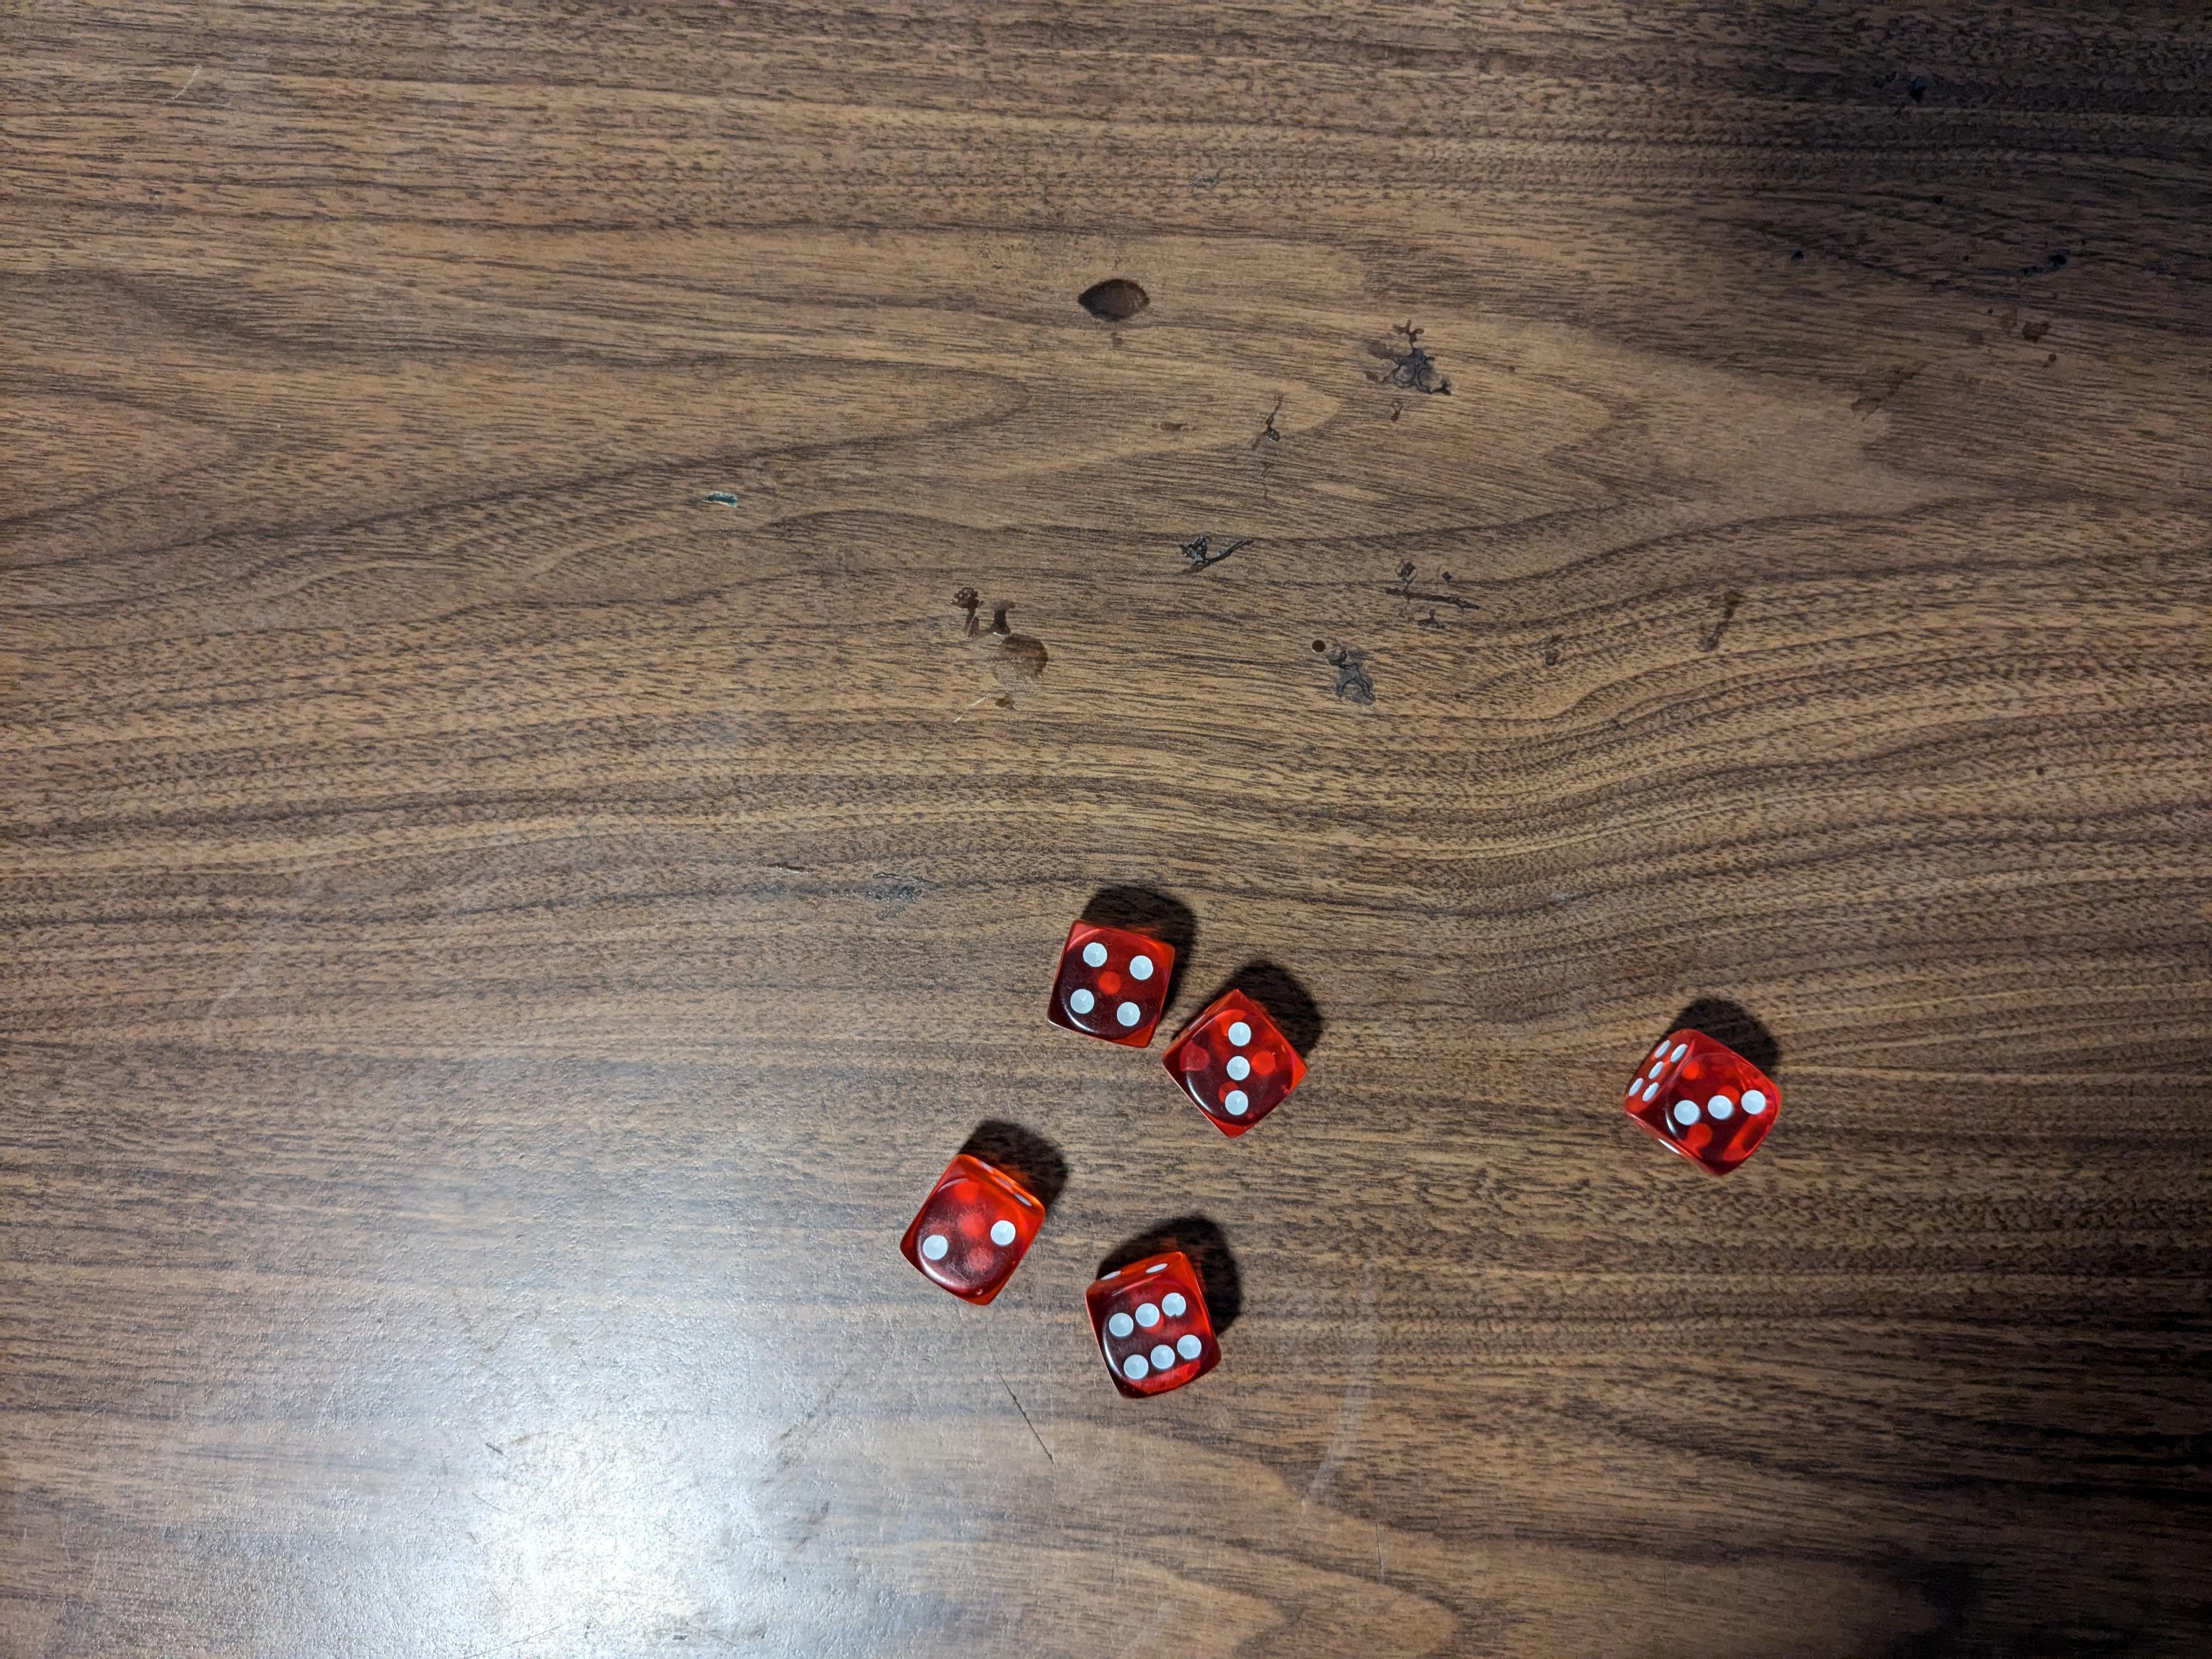four: (1052, 918, 1176, 1054)
six: (1087, 1243, 1221, 1398)
three: (1167, 985, 1315, 1143), (1627, 1019, 1778, 1173)
two: (900, 1145, 1043, 1312)
